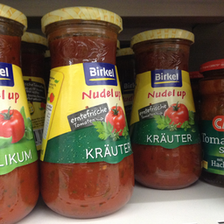tomato_sauce: (36, 5, 135, 220), (129, 27, 202, 191)
